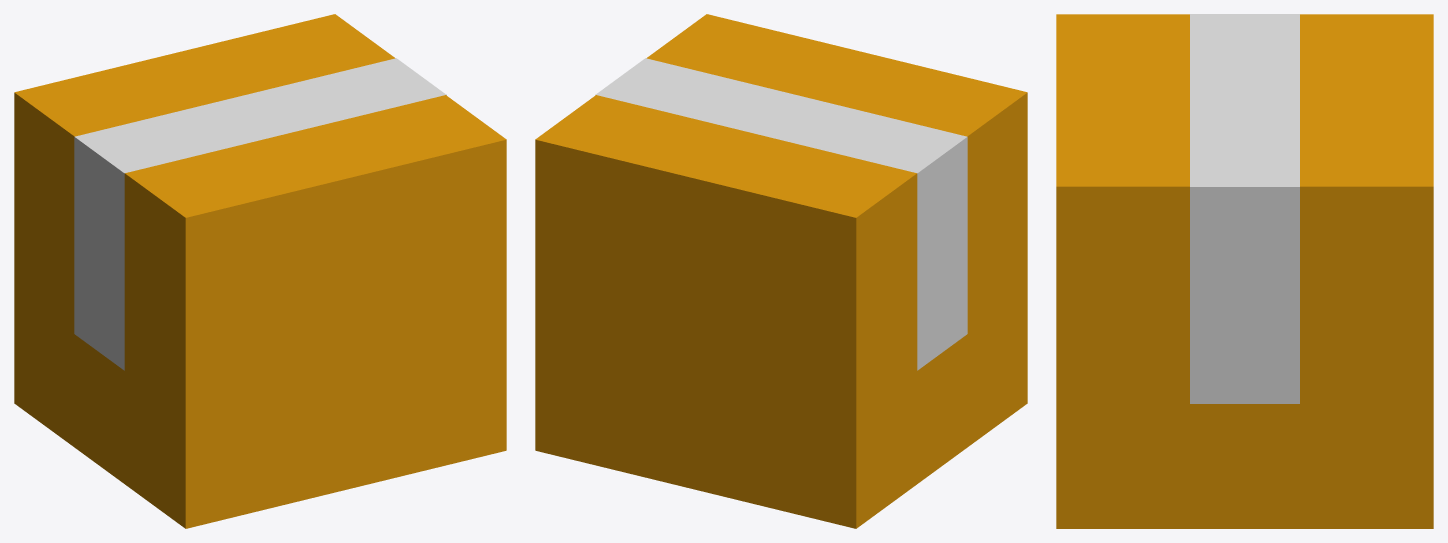
File: BoxSmall.fbx
3 renders of one model, left to right at view 1: azimuth 30°, elevation 25°; view 2: azimuth 150°, elevation 25°; view 3: azimuth 270°, elevation 25°, orthographic. The views are drawn at different scales.
Visible parts, largest first — view 1: Cube.029; view 2: Cube.029; view 3: Cube.029.
Boxes of the visible parts, box(x1,y1,x2,y2) form: Cube.029: box(14, 14, 506, 528); Cube.029: box(535, 14, 1027, 528); Cube.029: box(1056, 14, 1433, 528).
Bounding box in the file's own units: 21.67 × 20.01 × 20.
